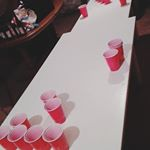cups: (42, 122, 70, 150), (42, 98, 71, 125), (23, 123, 51, 150), (101, 48, 121, 73), (76, 3, 90, 18)
